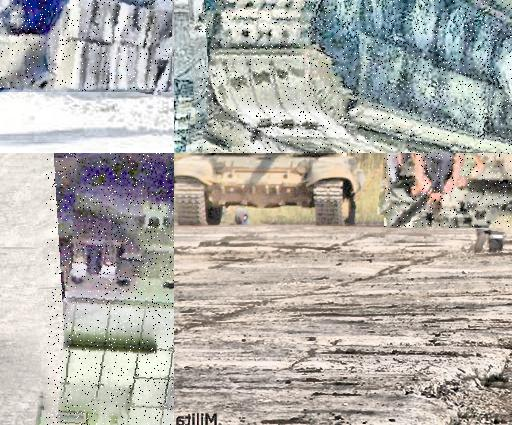tanks: (200, 1, 512, 154), (54, 200, 175, 425), (1, 1, 172, 92), (175, 1, 265, 154), (175, 154, 365, 226), (385, 154, 512, 229)
